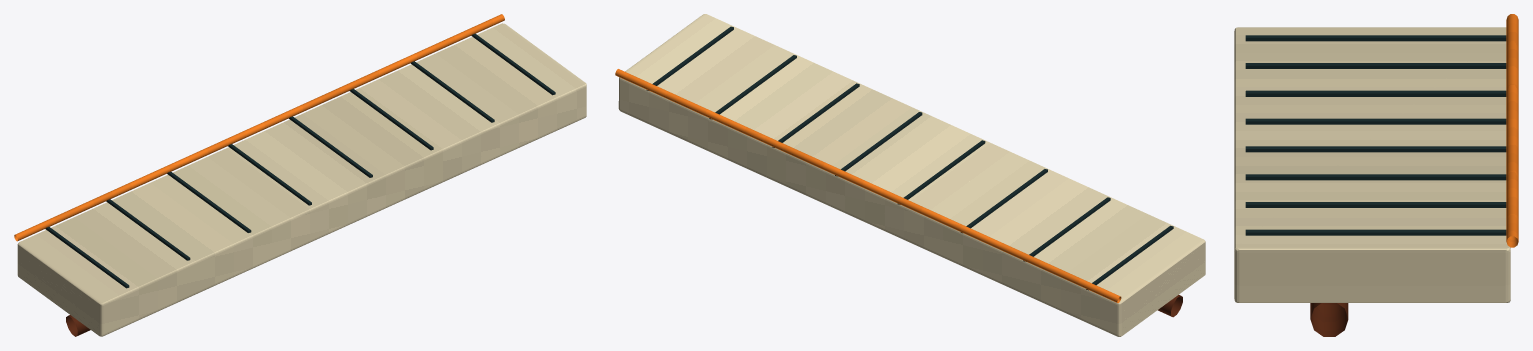
The model's file is painted_path_2.gltf.
3 renders of one model, left to right at view 1: azimuth 30°, elevation 25°; view 2: azimuth 150°, elevation 25°; view 3: azimuth 270°, elevation 25°, orthographic. The views are drawn at different scales.
Parts seen in each view (by area): view 1: V14_painted_path_2; view 2: V14_painted_path_2; view 3: V14_painted_path_2.
Part boxes in pixels (box(x1,y1,x2,y2)): V14_painted_path_2: box(14, 14, 586, 336); V14_painted_path_2: box(615, 14, 1205, 336); V14_painted_path_2: box(1234, 14, 1518, 336).
Size of the model in its own units: 5.37 by 1.7 by 1.65.
4 materials, 4 textured.
